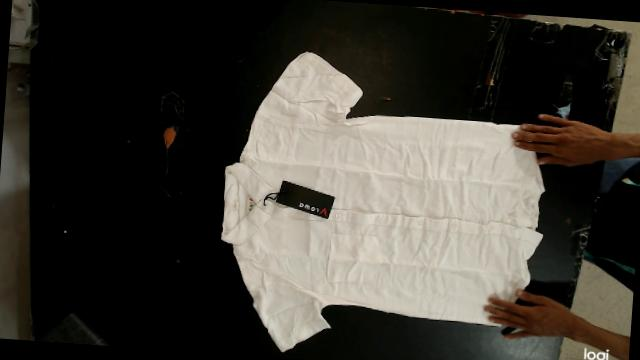new-garment: (221, 52, 543, 351)
